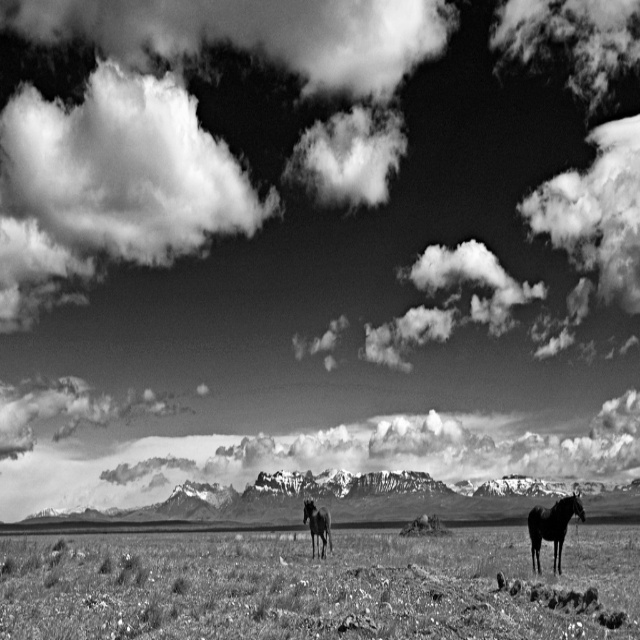Horse: (525, 492, 589, 581), (303, 499, 335, 563)
